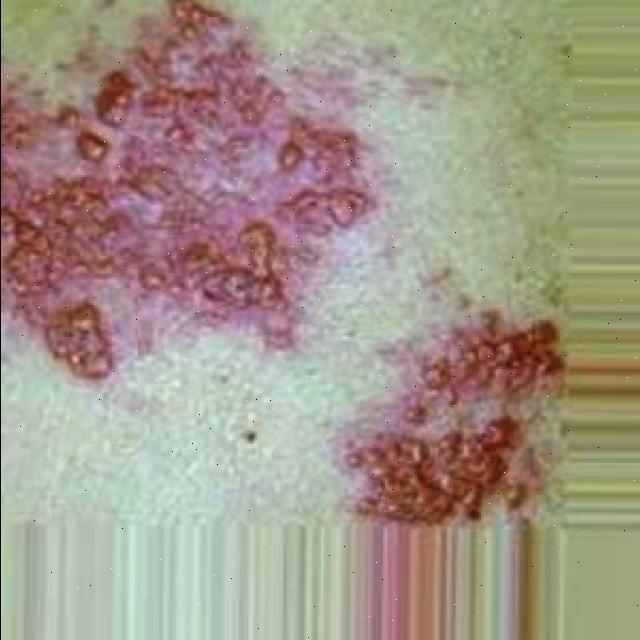Shingles: (0, 0, 376, 381), (348, 318, 565, 522)
